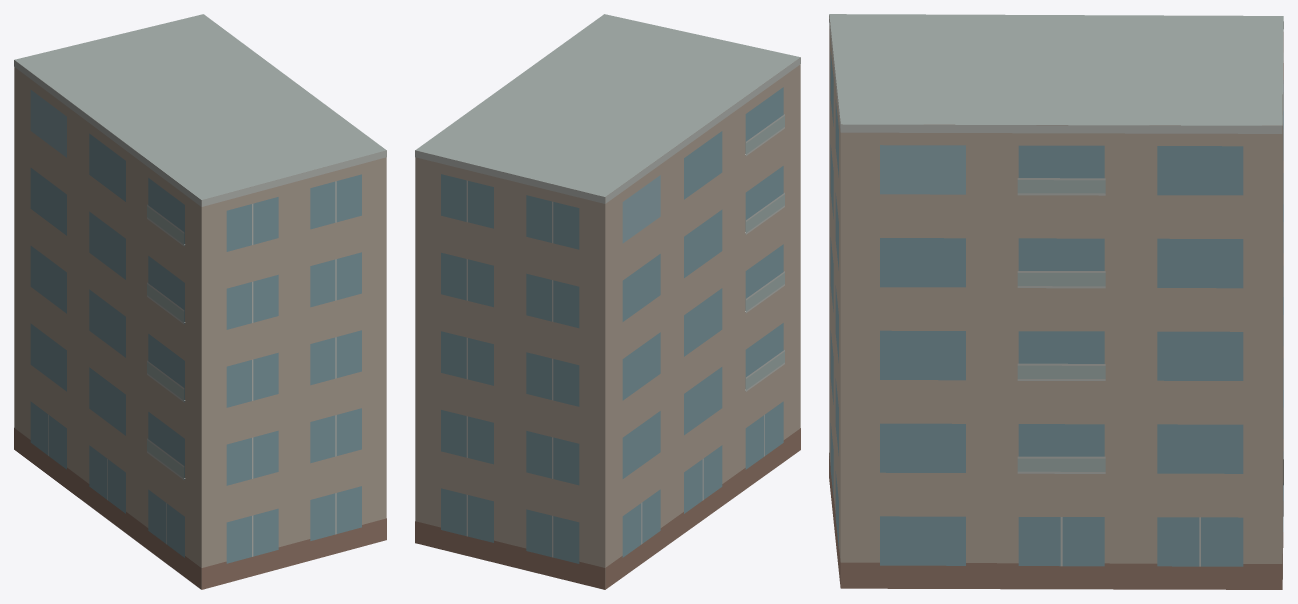
File: survey-upis-32729649.glb
3 views of the same model, side by side, from view 1: azimuth 30°, elevation 25°; view 2: azimuth 150°, elevation 25°; view 3: azimuth 270°, elevation 25° (orthographic). The views are drawn at different scales.
Parts seen in each view (by area): view 1: survey-upis-32729649.tmp; view 2: survey-upis-32729649.tmp; view 3: survey-upis-32729649.tmp.
Boxes of the visible parts, x1,y1,x2,y2 form: survey-upis-32729649.tmp: (14, 14, 386, 589); survey-upis-32729649.tmp: (415, 14, 800, 589); survey-upis-32729649.tmp: (829, 14, 1283, 589).
Bounding box in the file's own units: 7.16 × 13.8 × 12.26.
